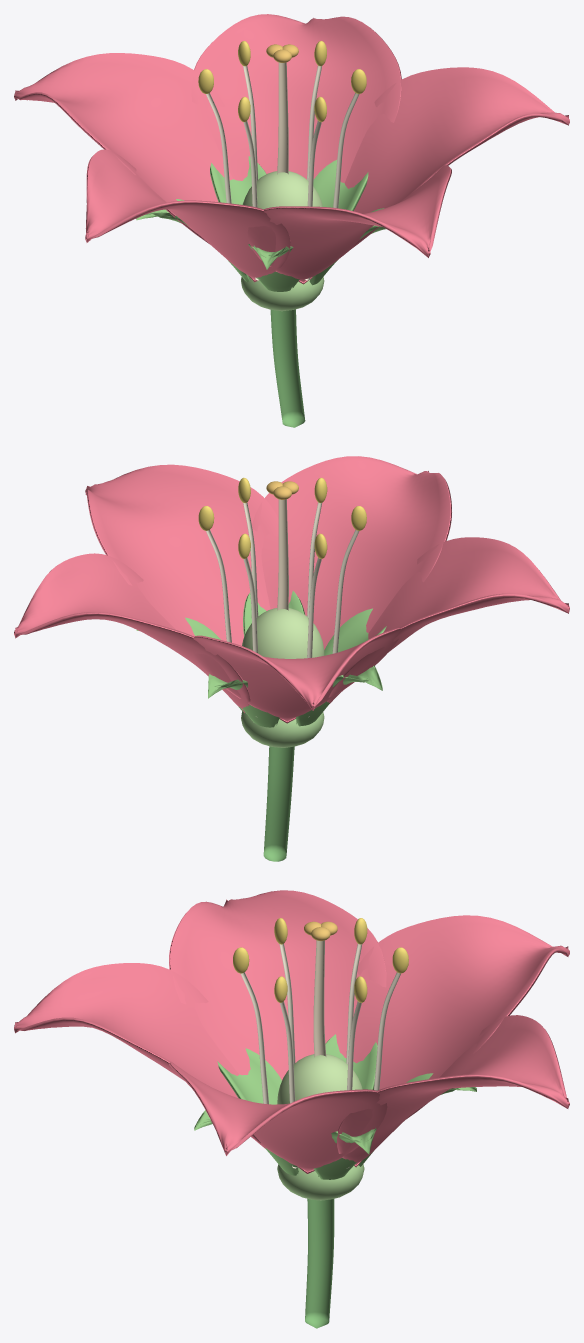
File: flower.glb
3 views of the same model, one above another, from view 1: azimuth 30°, elevation 25°; view 2: azimuth 150°, elevation 25°; view 3: azimuth 270°, elevation 25° (orthographic). The views are drawn at different scales.
Parts seen in each view (by area): view 1: petals, sepals, filament, pedicel, ovary, anther, receptacle, style; view 2: petals, sepals, filament, ovary, pedicel, anther, receptacle, style; view 3: petals, sepals, filament, pedicel, ovary, anther, receptacle, style.
Part boxes in pixels (x1,y1,x2,y2): petals: [14, 14, 569, 284]; sepals: [136, 156, 385, 291]; filament: [206, 65, 359, 280]; pedicel: [270, 309, 305, 427]; ovary: [242, 171, 322, 209]; anther: [198, 41, 366, 122]; receptacle: [241, 276, 324, 311]; style: [277, 62, 288, 174]; petals: [14, 456, 569, 723]; sepals: [136, 591, 386, 727]; filament: [206, 502, 359, 717]; ovary: [242, 608, 324, 658]; pedicel: [263, 746, 294, 861]; anther: [198, 477, 366, 558]; receptacle: [241, 711, 324, 747]; style: [277, 499, 288, 610]; petals: [14, 890, 569, 1173]; sepals: [194, 1034, 476, 1179]; filament: [241, 943, 400, 1168]; pedicel: [305, 1198, 334, 1328]; ovary: [277, 1054, 362, 1104]; anther: [233, 918, 408, 1002]; receptacle: [277, 1164, 364, 1200]; style: [313, 940, 326, 1057].
Bounding box in the file's own units: 0.1538 × 0.1158 × 0.1463.
